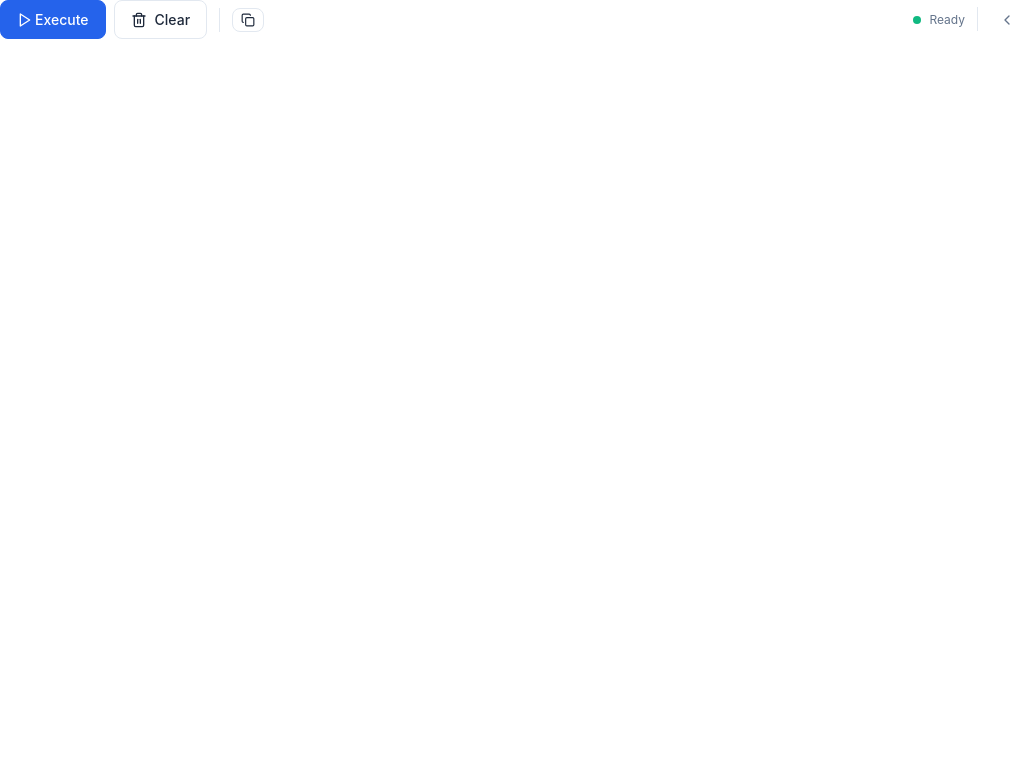
QueryActions Component › closes confirmation modal when cancelled
This screenshot has width=1024, height=768.
Click the button with aria-label "clear query".
click(160, 20)  # box x1=114 y1=0 x2=207 y2=39
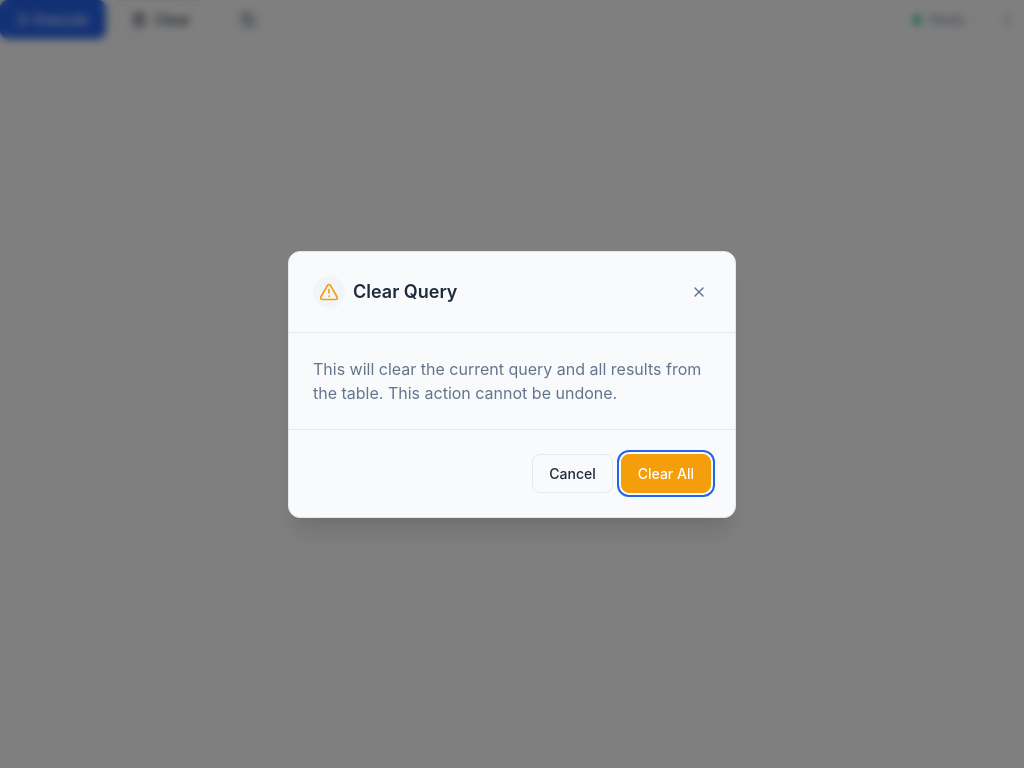
Click the button with test id "cancel-button".
click(573, 473)  # box x1=532 y1=454 x2=613 y2=492
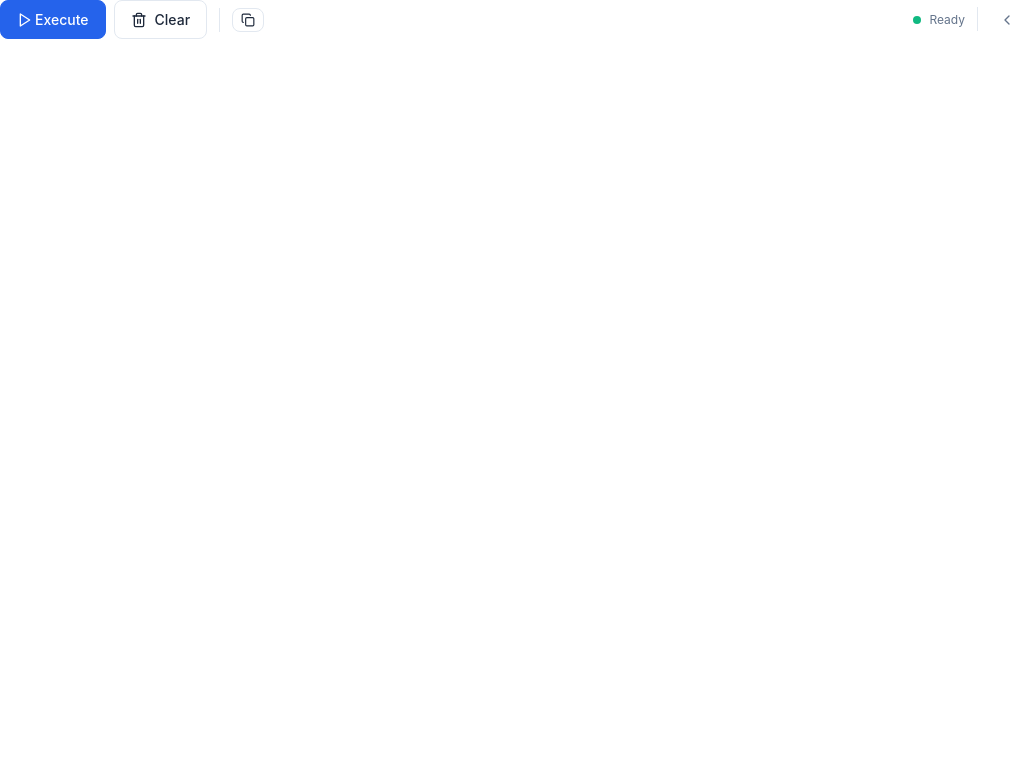
Check: the dialog with test id "confirmation-modal" is gone
